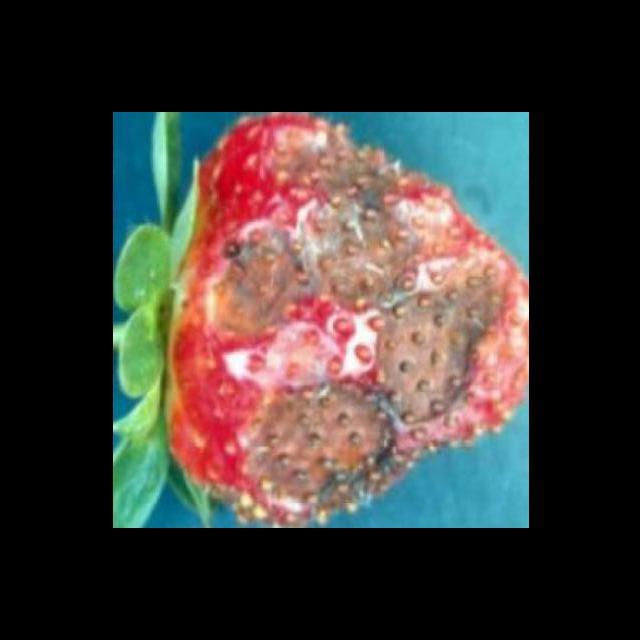Anthracnose Fruit Rot: (200, 112, 515, 528)
